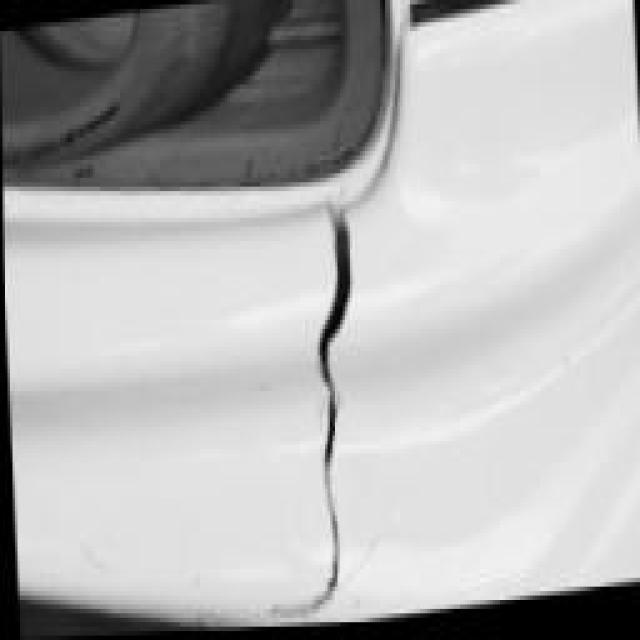Bumper: (2, 98, 640, 640)
